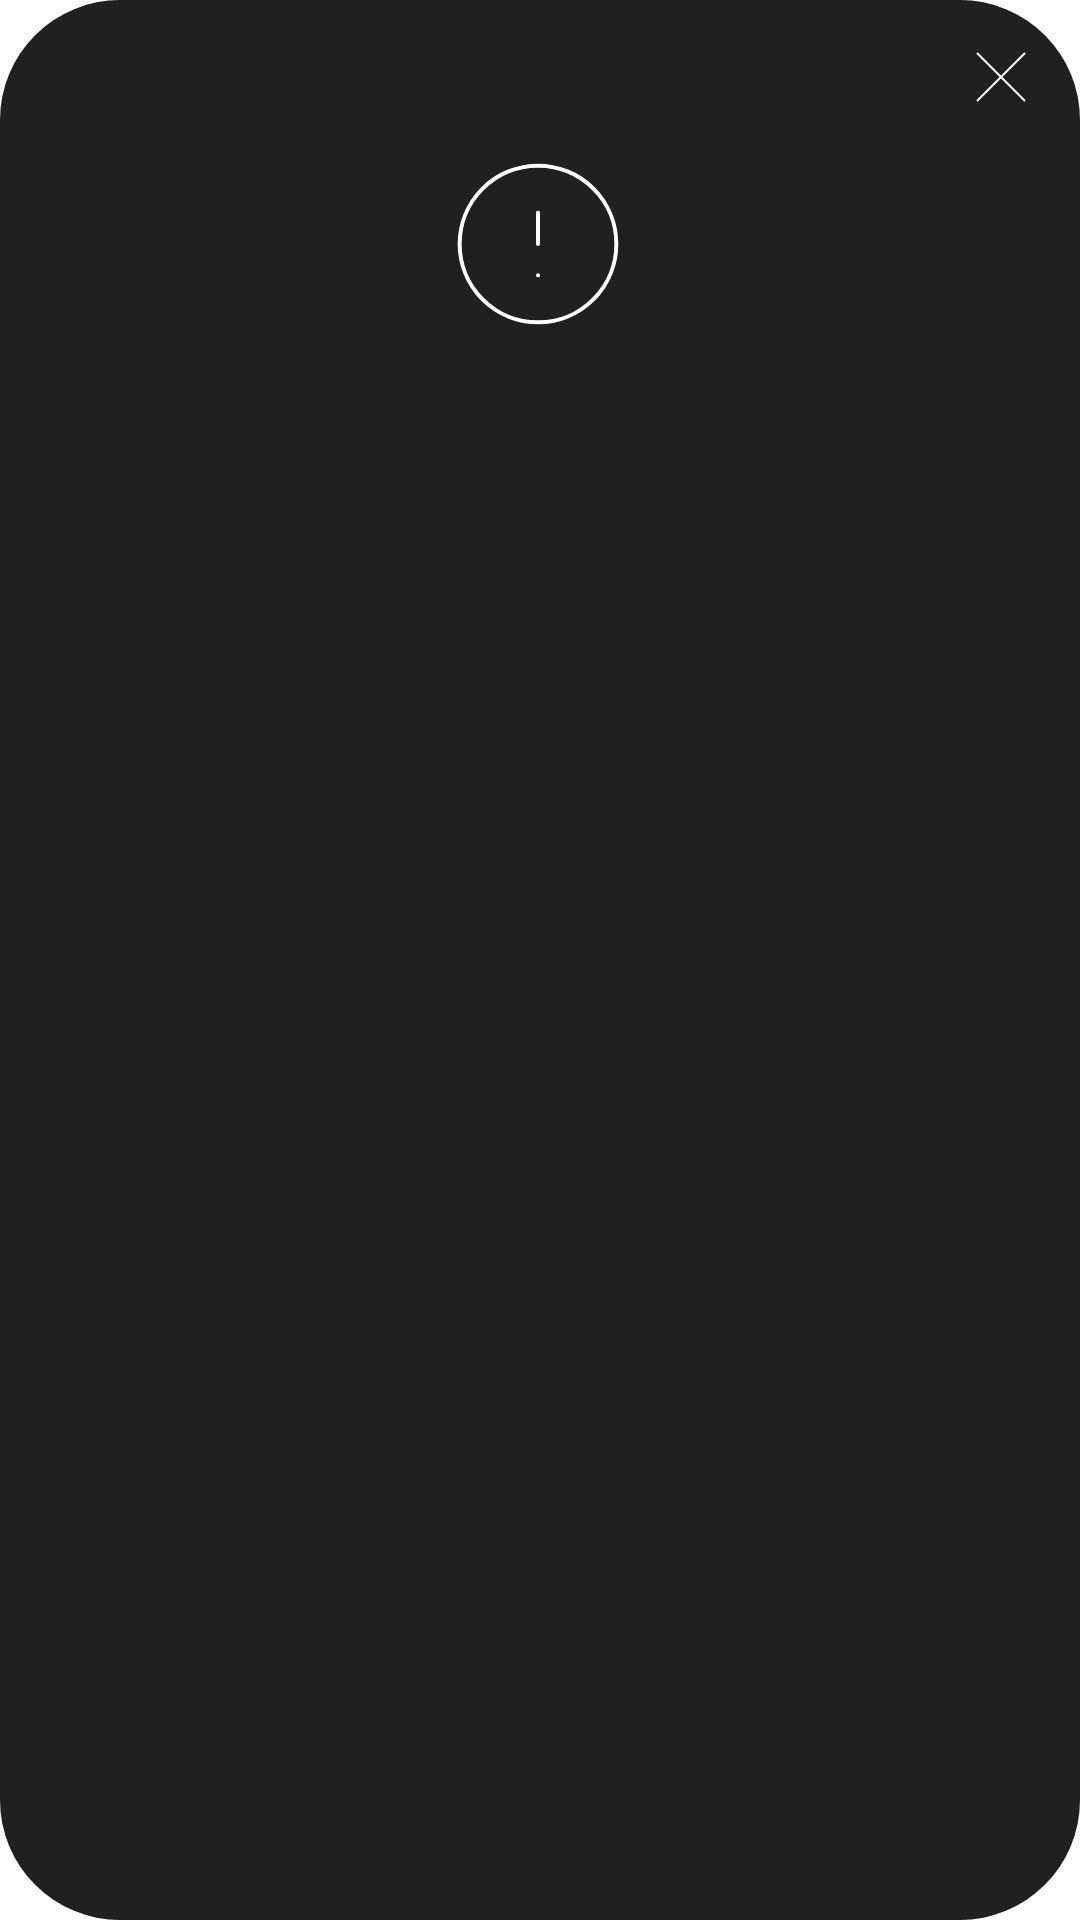

Screen size 1080 × 1920. Icon name, then its center in pixels as point (x, y):
close: point (1001, 77)
error: point (538, 244)
